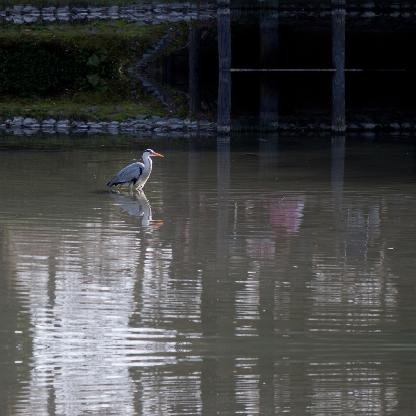Bird: (102, 144, 164, 192)
